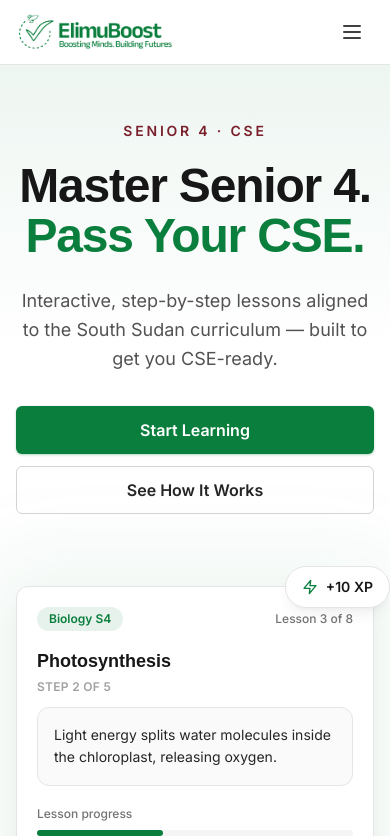
Test case: Mobile navigation › opens a slide-down panel and closes it when a link is chosen
The image size is (390, 836).
Click the button named "menu" at coordinates (352, 32), box [330,10,374,54]
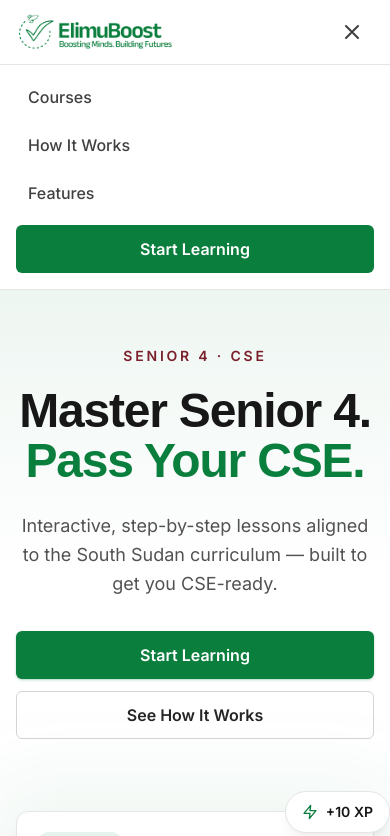
Result: the button named "menu" is expanded at [330,10,374,54]
Click the link "Courses" at coordinates (60, 97), box [28,87,92,107]
(page scrolled)
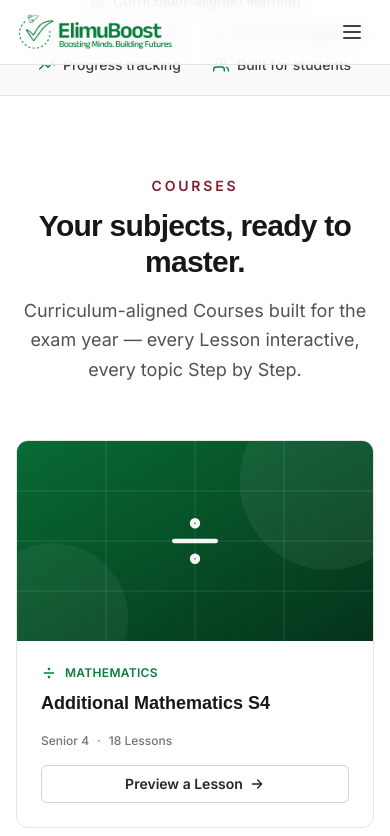
Result: the button named "menu" is collapsed at [330,10,374,54]
Result: the navigation bar "Mobile" is gone
